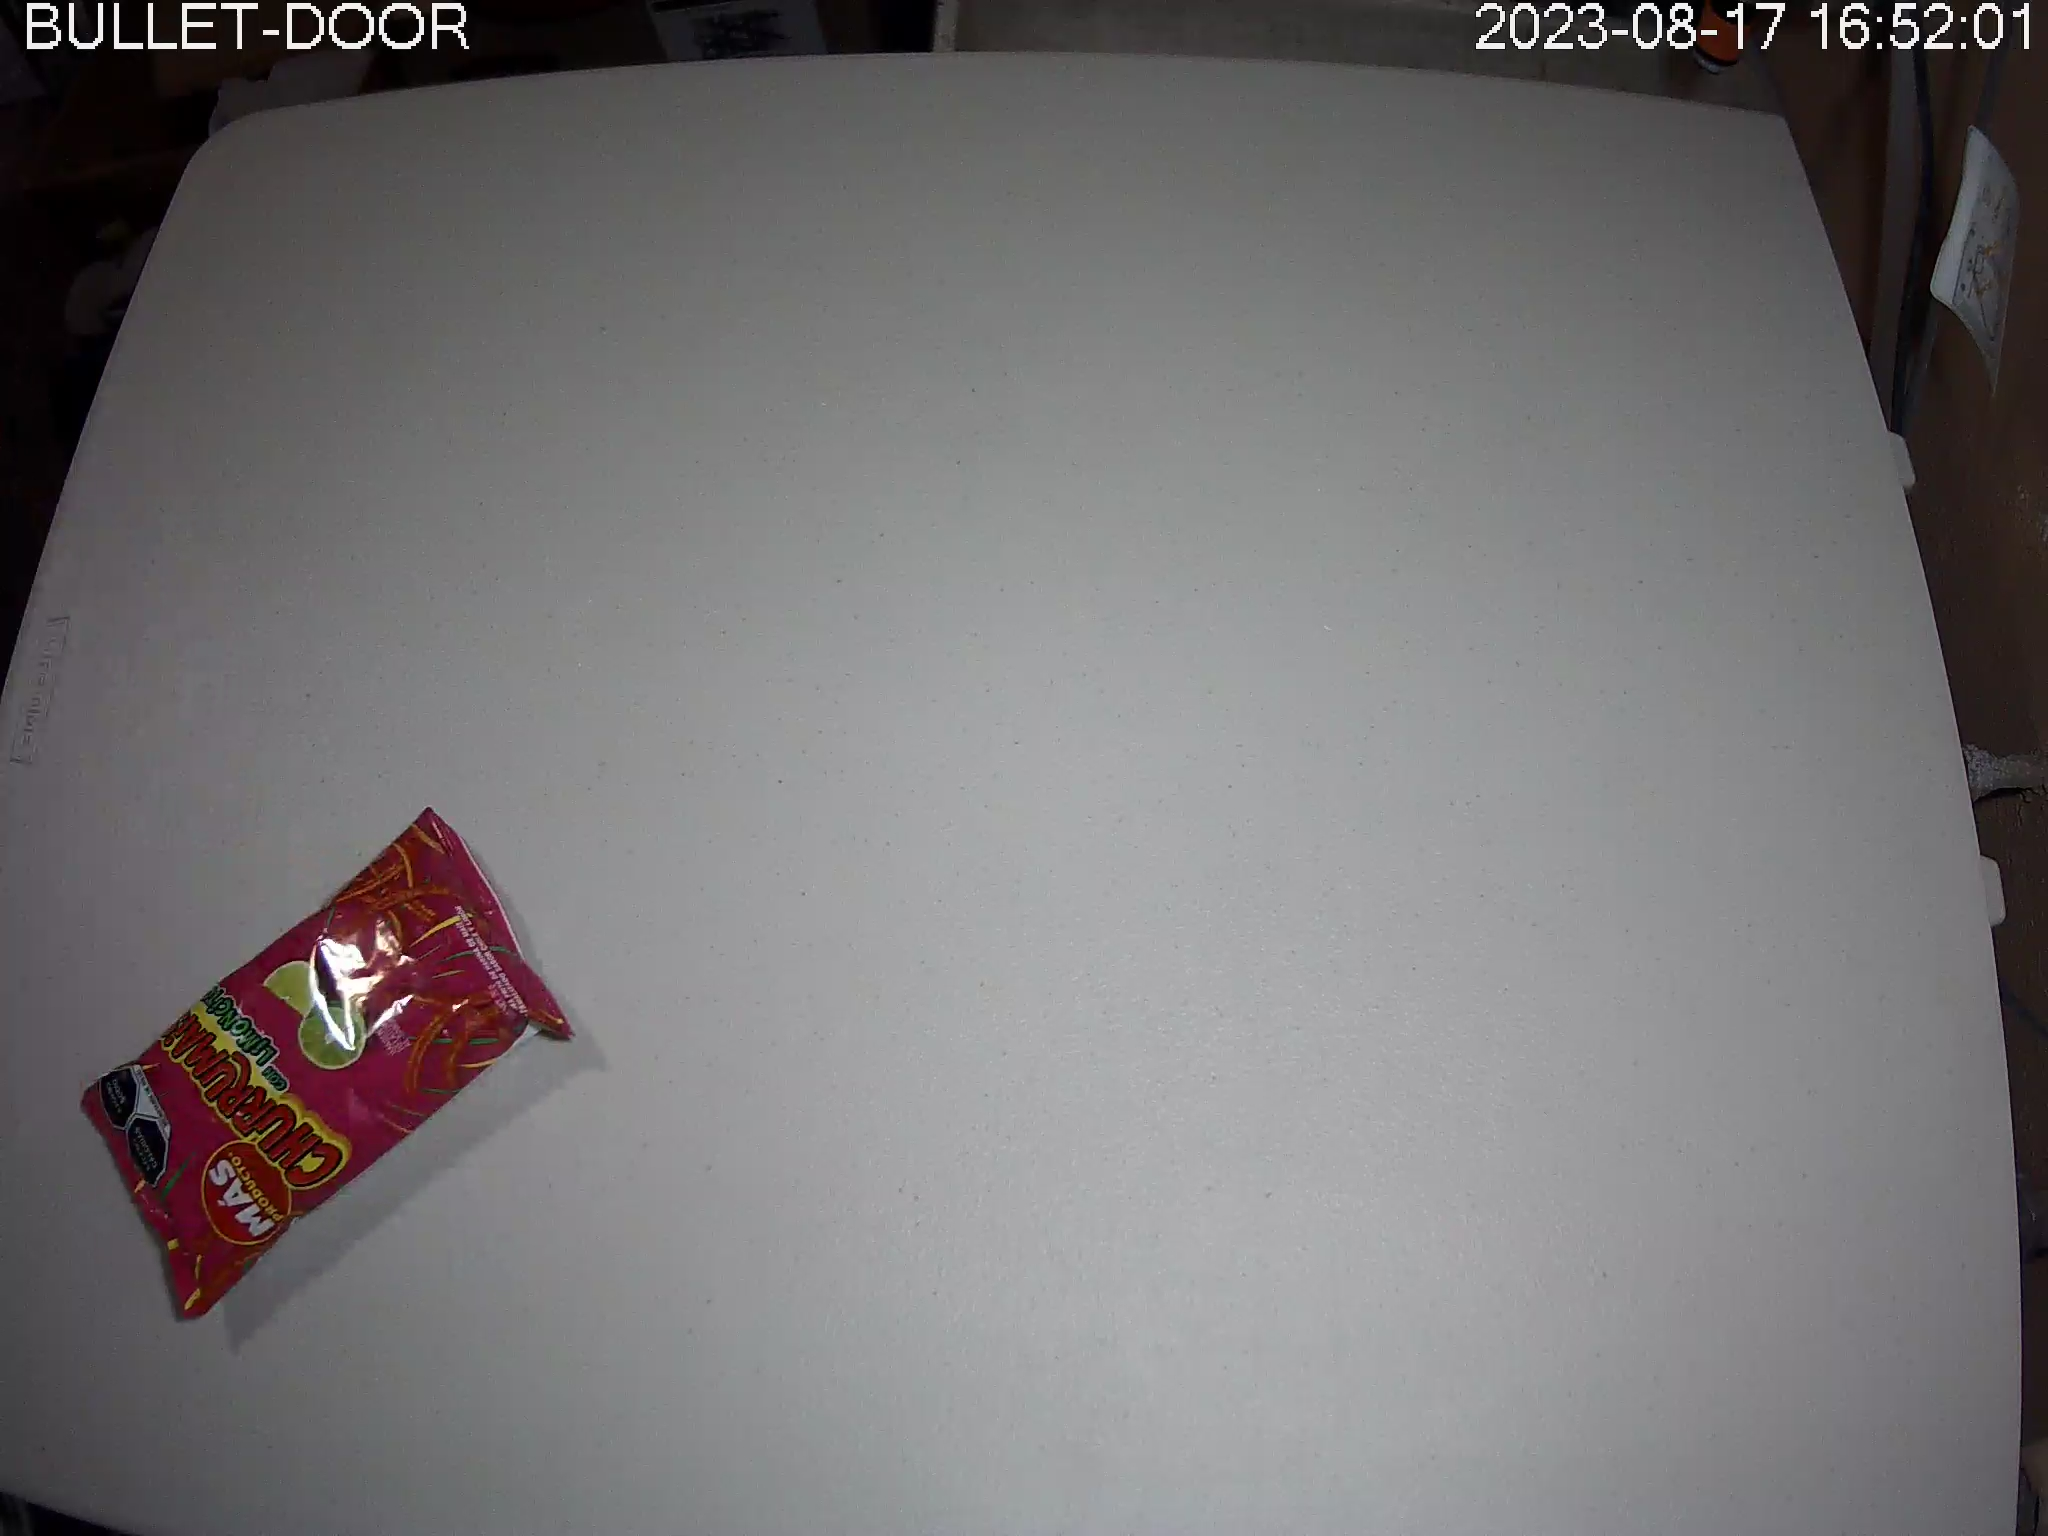Churrumais_70_F: (81, 807, 577, 1320)
